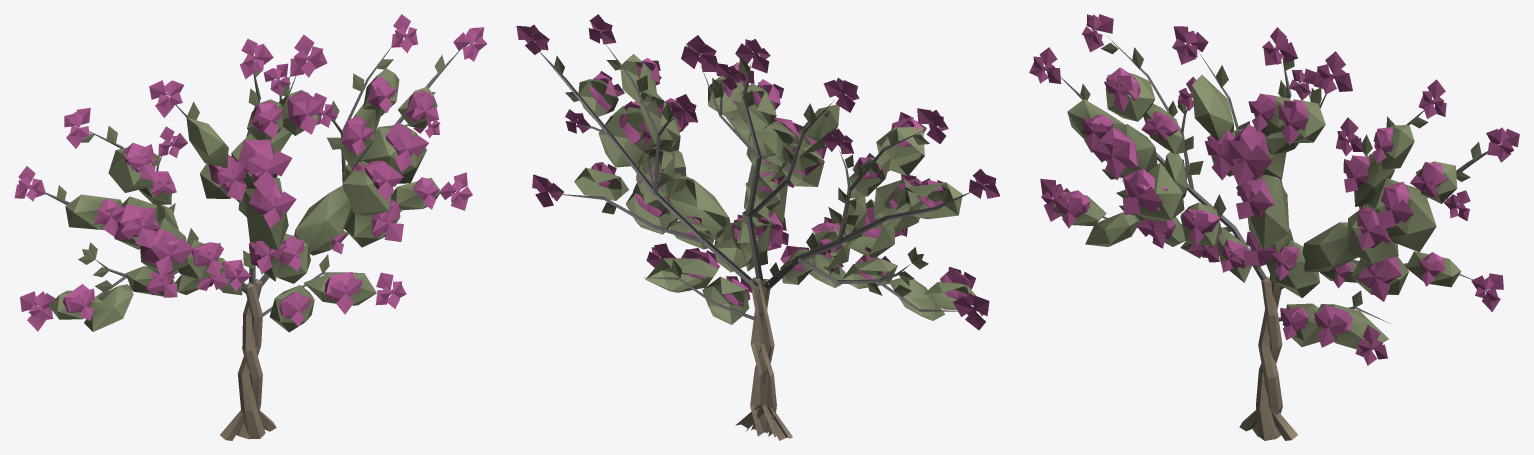
Rendered from bougain.glb.
The picture shows the model from 3 angles, left to right: view 1: azimuth 30°, elevation 25°; view 2: azimuth 150°, elevation 25°; view 3: azimuth 330°, elevation 25°; orthographic projection. The views are drawn at different scales.
Parts seen in each view (by area): view 1: bougain; view 2: bougain; view 3: bougain.
Boxes of the visible parts, x1,y1,x2,y2 form: bougain: [14, 14, 487, 440]; bougain: [516, 14, 999, 440]; bougain: [1029, 14, 1519, 440].
Size of the model in its own units: 4.47 by 3.54 by 0.5112.
